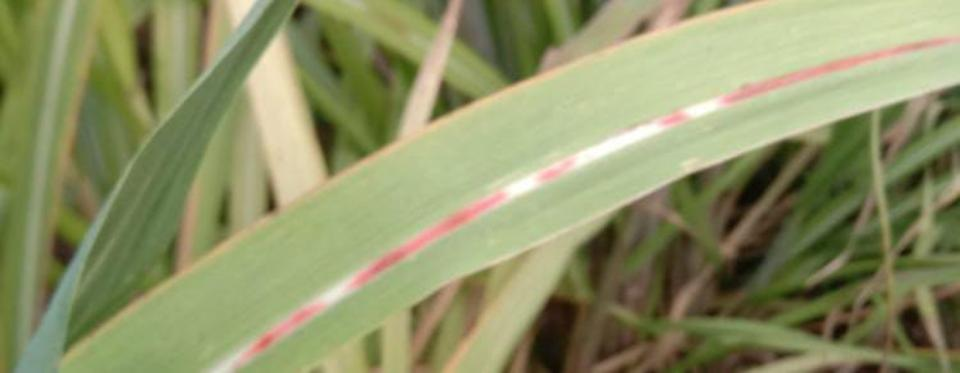RedRot: (717, 36, 959, 106), (345, 190, 511, 292), (228, 301, 331, 370), (530, 159, 574, 182), (653, 111, 697, 127)
